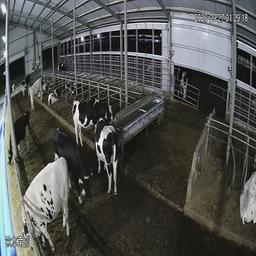cow: (21, 158, 73, 254), (55, 126, 101, 218), (71, 97, 114, 149), (93, 117, 120, 197), (7, 108, 31, 168), (28, 73, 49, 113), (176, 66, 189, 102), (63, 80, 85, 95), (48, 85, 61, 107), (20, 73, 30, 98), (5, 81, 17, 101), (55, 62, 67, 74)
